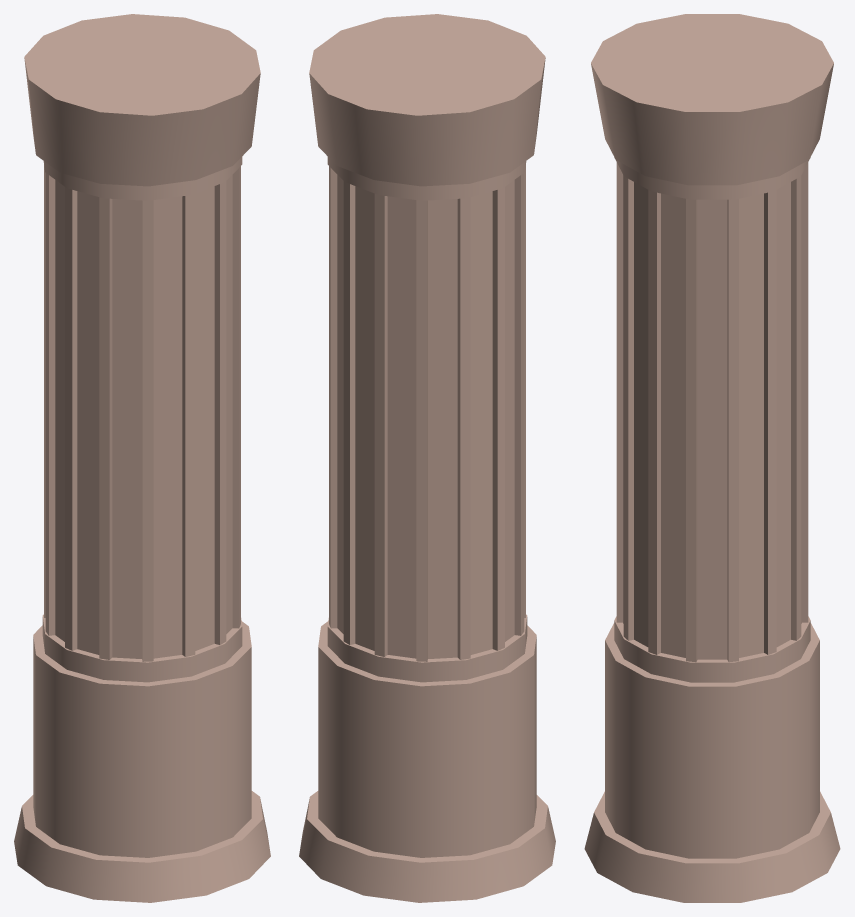
File: kolumna_1.2.obj
3 views of the same model, side by side, from view 1: azimuth 30°, elevation 25°; view 2: azimuth 150°, elevation 25°; view 3: azimuth 270°, elevation 25° (orthographic).
Parts seen in each view (by area): view 1: Cylinder.012; view 2: Cylinder.012; view 3: Cylinder.012.
Boxes of the visible parts, <box> form: Cylinder.012: <box>14,14,270,902</box>; Cylinder.012: <box>299,14,555,902</box>; Cylinder.012: <box>584,14,840,902</box>.
Size of the model in its own units: 3.1 by 10.5 by 3.1.
